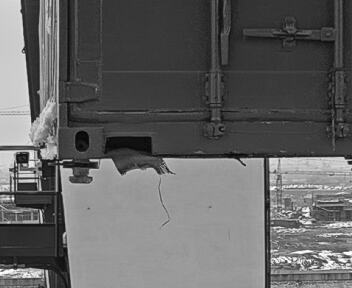twist_lock_1: (60, 156, 104, 190)
